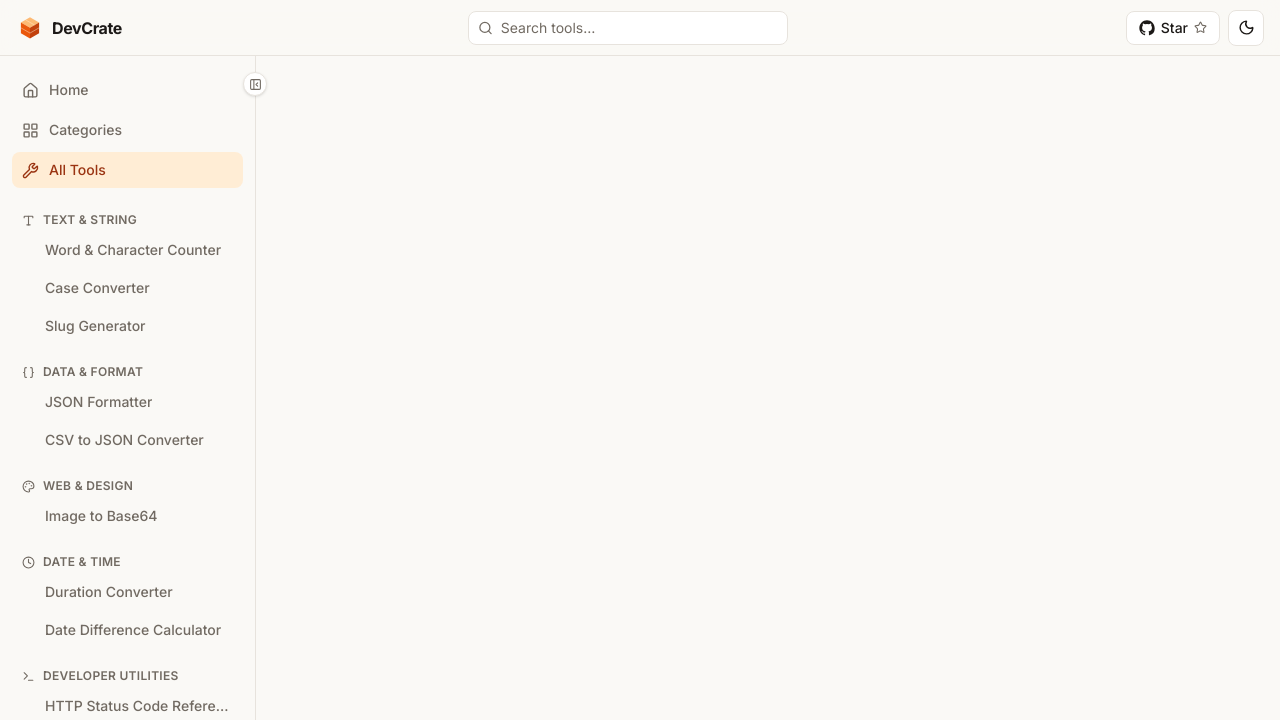
App routing › updates All Tools results when the URL q param changes without unmounting the page
Expected: the text "JSON Formatter" is shown, [45,392,152,412]
Type "zzz-no-such-tool" into the field with placeholder "Search tools…".
click(628, 28); type("zzz-no-such-tool")  # box [468,10,788,44]
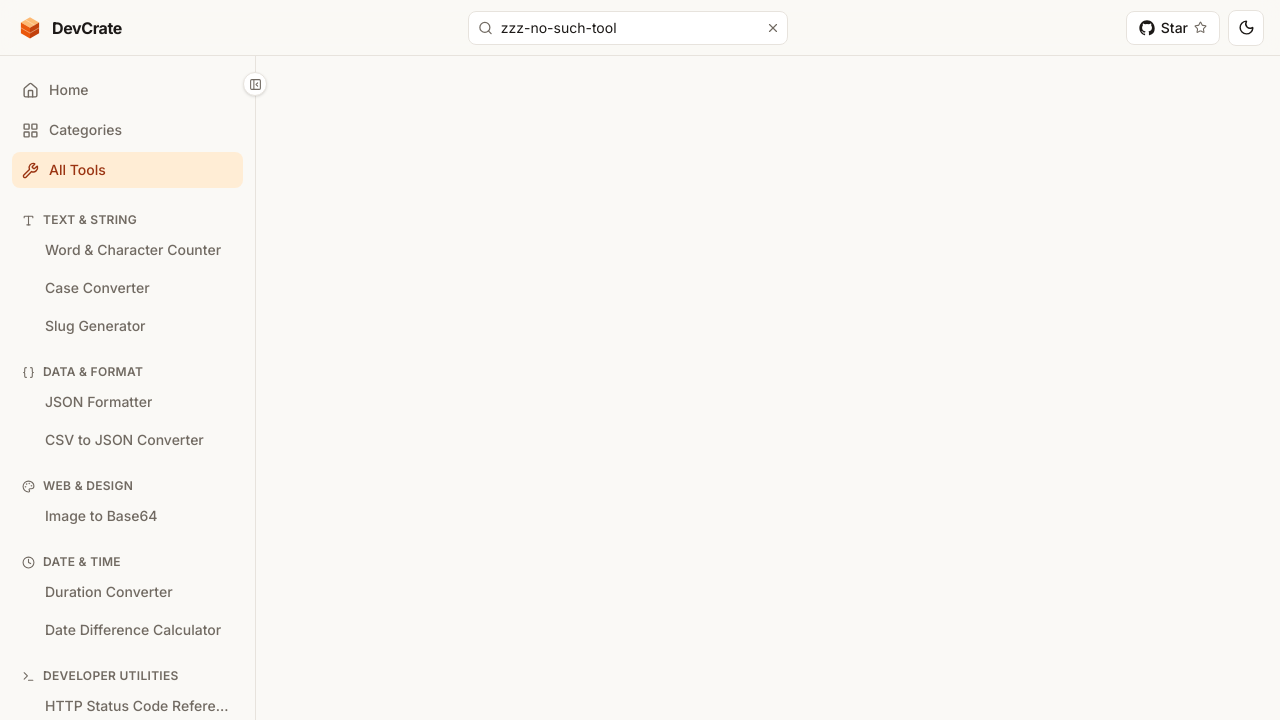
Submit the form with placeholder "Search tools…", box [468,10,788,44]
Click the link "All Tools".
click(128, 170)  # box [12,152,243,188]
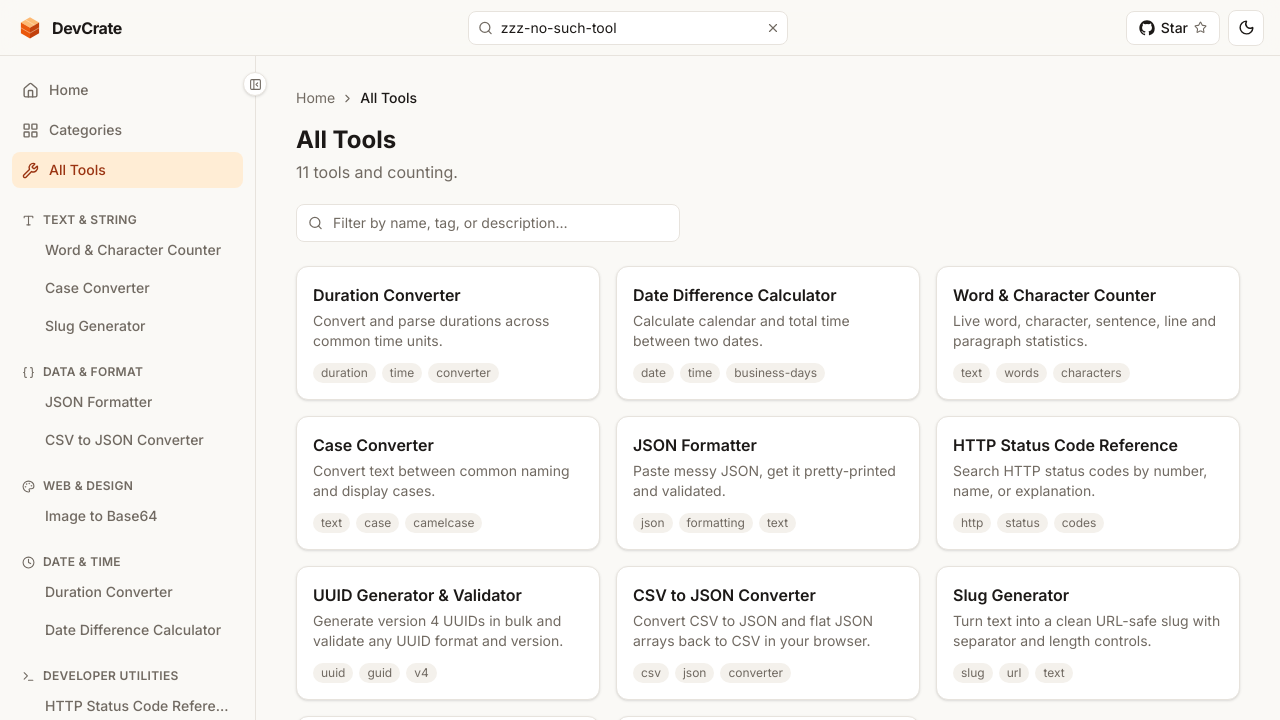
Expected: the heading "JSON Formatter" is shown, [633,435,757,455]
